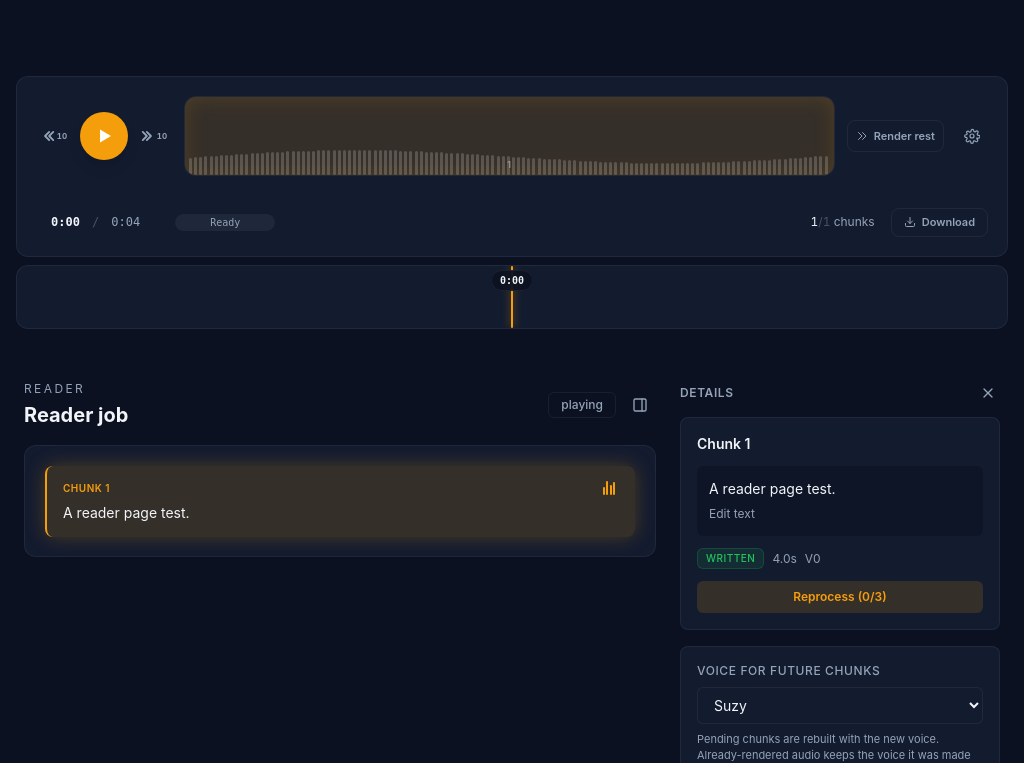
it: sidebar toggle button stays stable across re-renders and toggles the sidebar
Expected: the heading "Reader job" is shown, top-left (24, 401), bottom-right (128, 429)
// And toggling still works: close, then reopen.
Click the button named "Close sidebar" next to "playing" at coordinates (640, 405), box top-left (624, 389), bottom-right (656, 421)
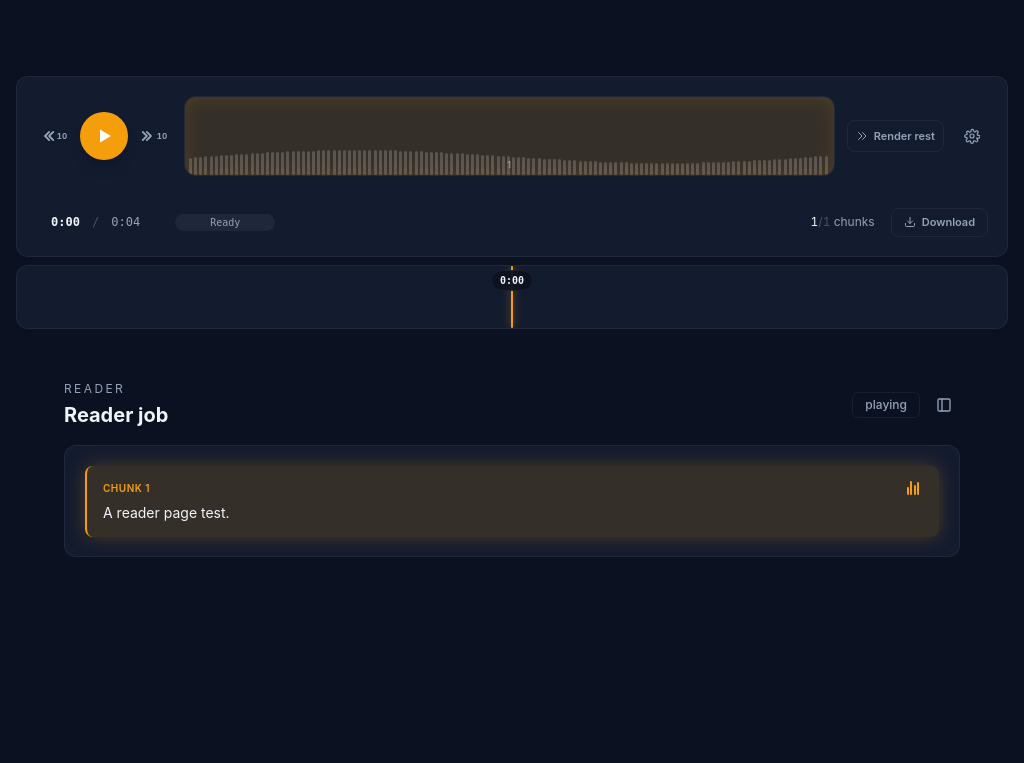
Expected: the button named "Open sidebar" is shown
Click the button named "Open sidebar" at coordinates (944, 405), box top-left (928, 389), bottom-right (960, 421)
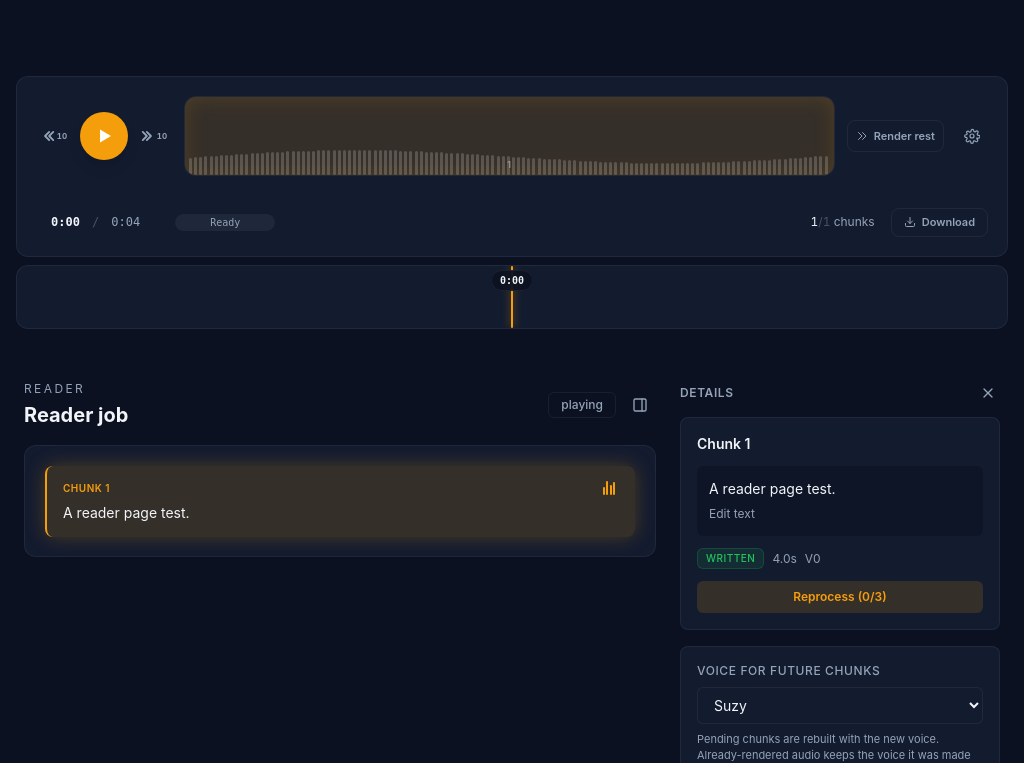
Expected: the button named "Close sidebar" next to "playing" is shown, top-left (624, 389), bottom-right (656, 421)
